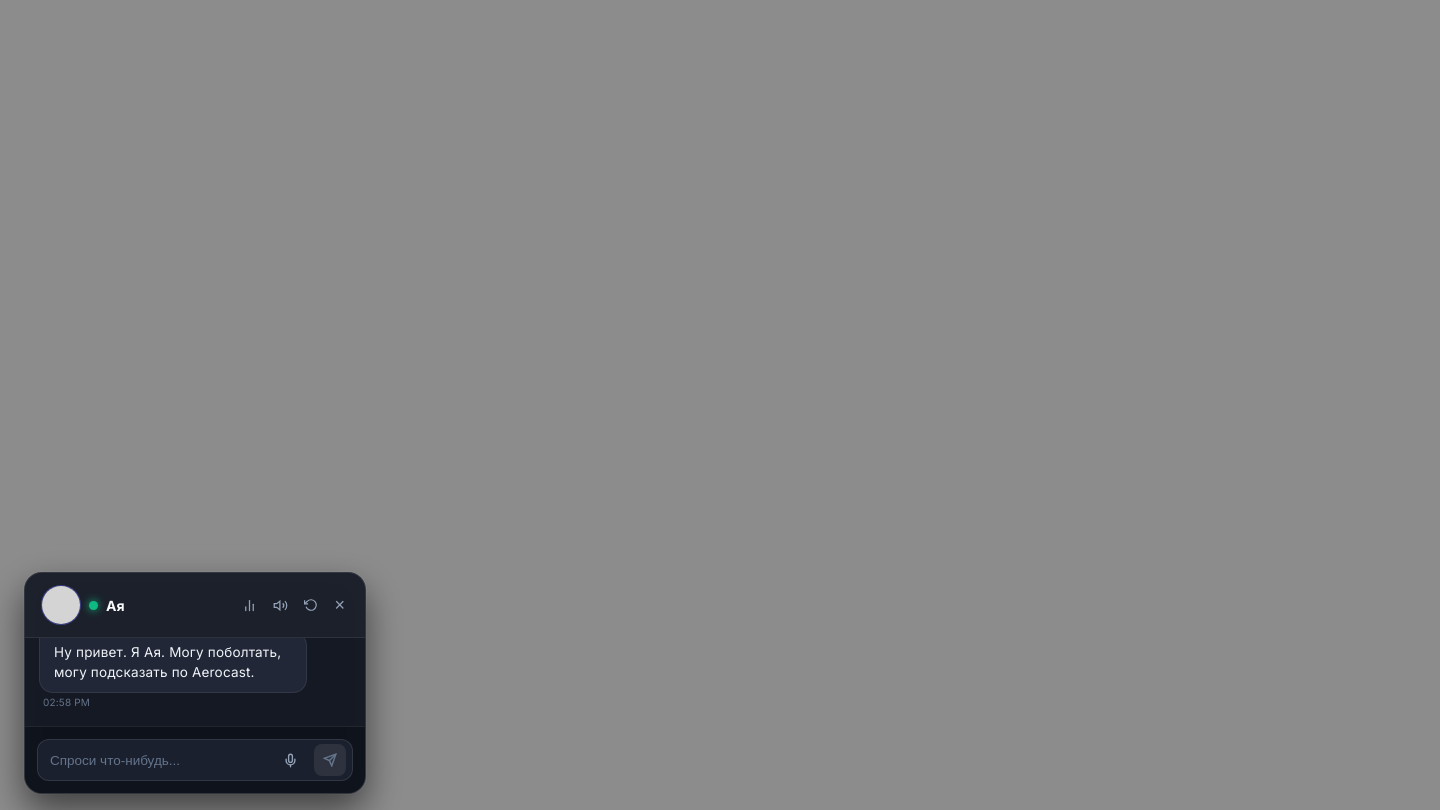
Test: AiChatModal Voice Input (Голосовой ввод) › запускает распознавание речи при клике на микрофон, если API доступен
(page scrolled)
Click the button with test id "ai-chat-mic-btn".
click(290, 760)  # box [274, 744, 306, 776]
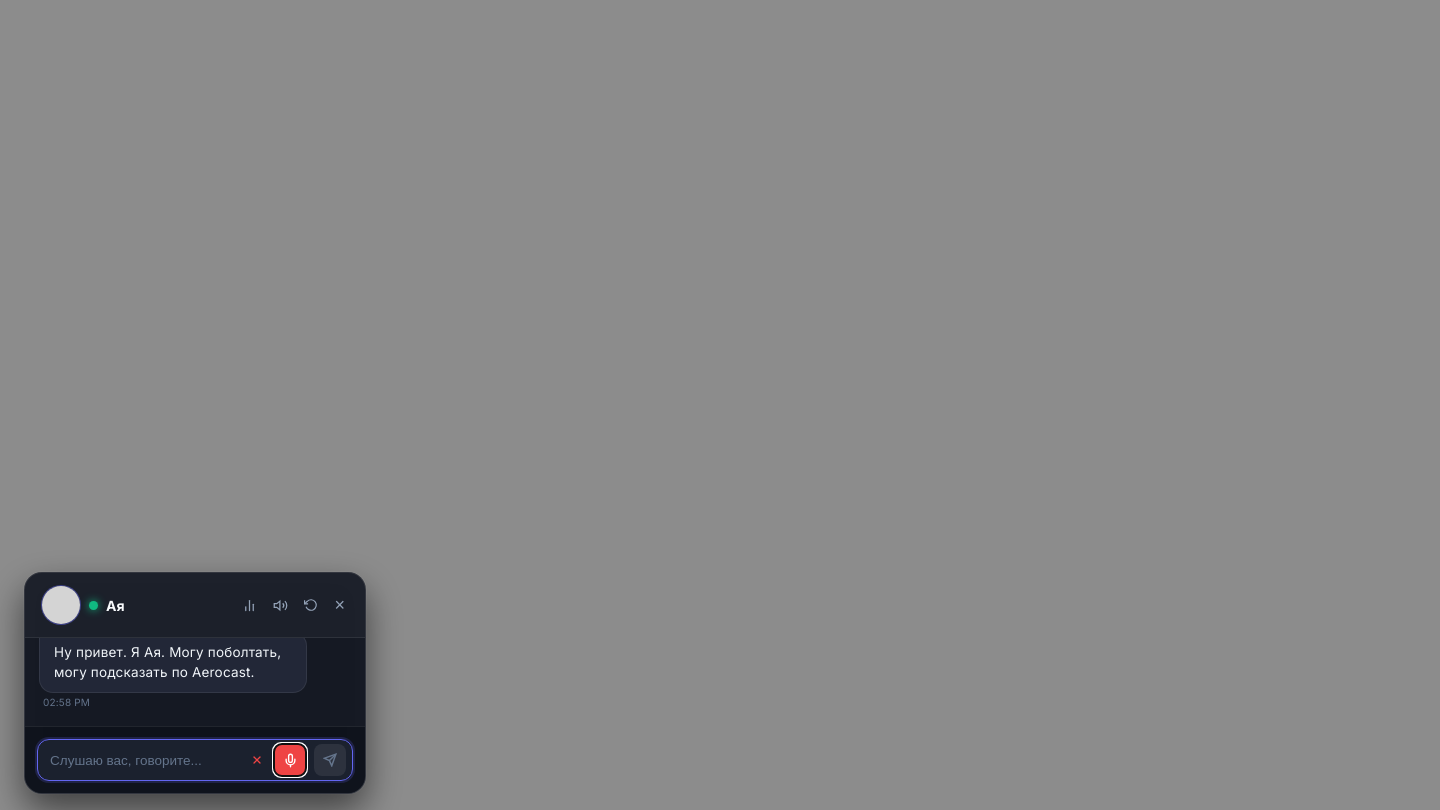
expect the field with placeholder "Слушаю вас, говорите..." is shown: met, box [50, 744, 240, 776]
expect the button with test id "ai-chat-cancel-voice-btn" is shown: met, box [248, 754, 266, 766]
